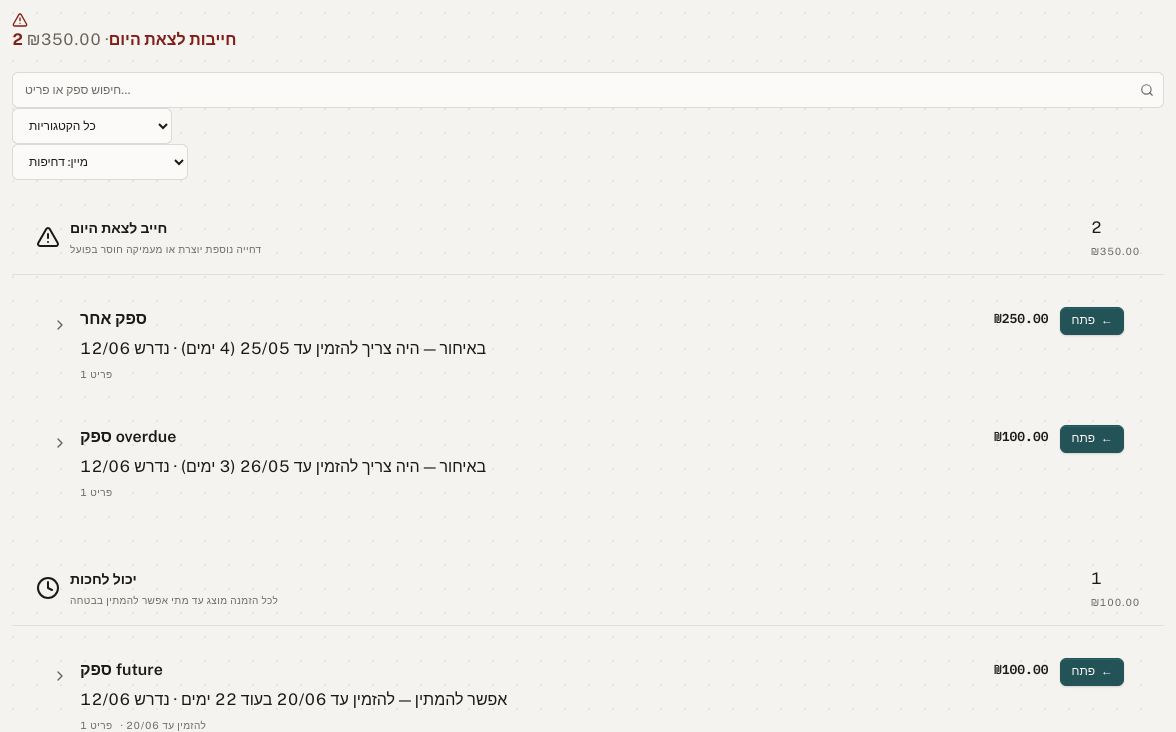
Test: ActionList › L7 the decision summary always reflects the FULL session, even while a filter narrows the list
Check: the element with test id "procurement-at-risk-summary" shows "2 חייב", box [12,12,236,49]
In the search field with test id "procurement-filter-search": (588, 90) [12,72,1164,108], type "ספק אחר"
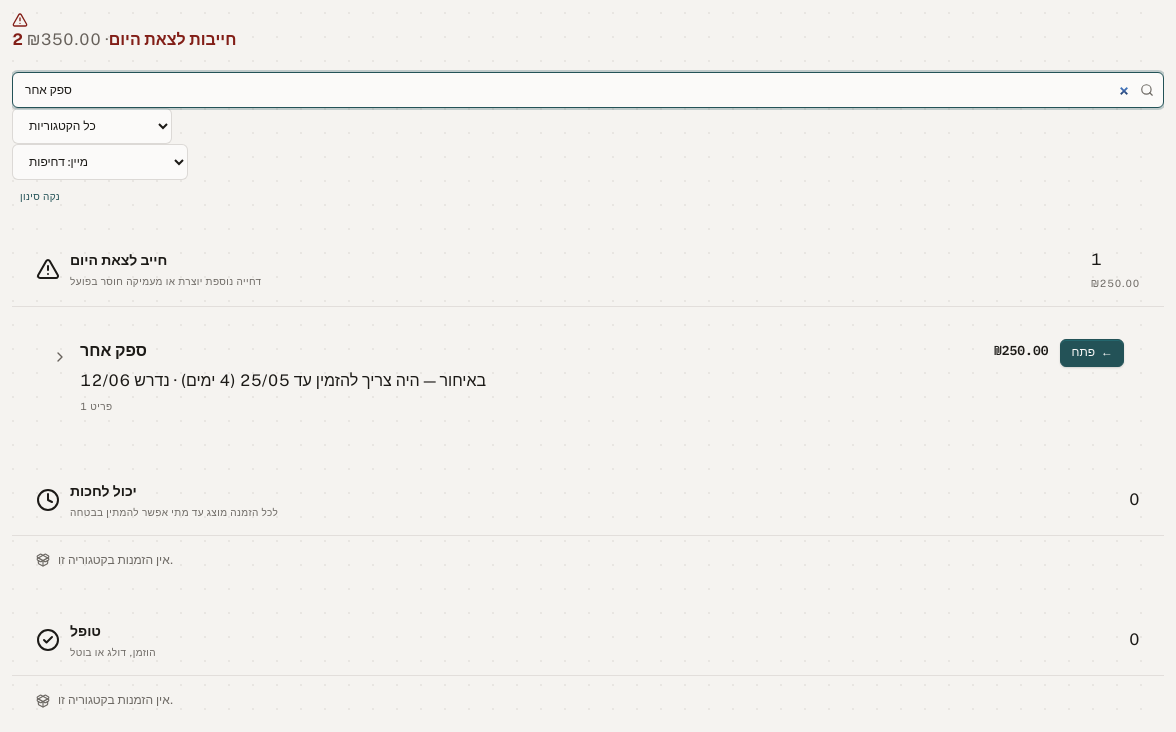
Check: the element with test id "procurement-row-overdue2" is shown, box [36,323,1140,429]
Check: the element with test id "procurement-row-overdue" is gone
